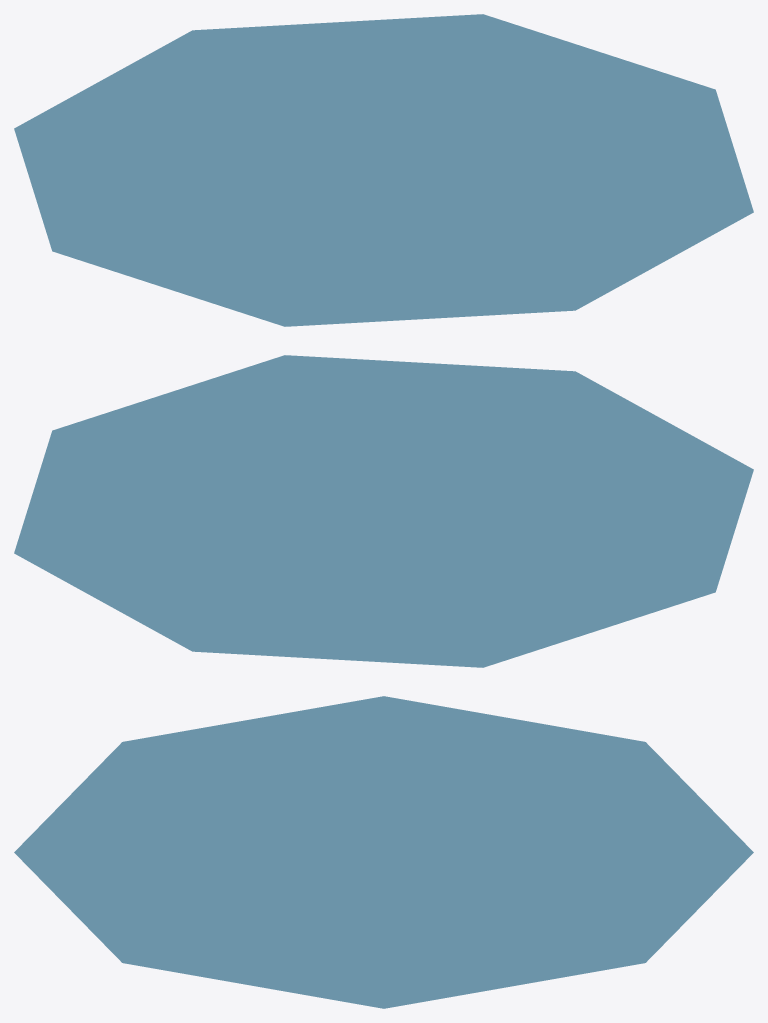
File: entity430282.gltf
The picture shows the model from 3 angles, top to bottom: view 1: azimuth 30°, elevation 25°; view 2: azimuth 150°, elevation 25°; view 3: azimuth 270°, elevation 25°; orthographic projection. The views are drawn at different scales.
Parts seen in each view (by area): view 1: node_pCylinder351; view 2: node_pCylinder351; view 3: node_pCylinder351.
Part boxes in pixels (x1,y1,x2,y2): node_pCylinder351: (14, 14, 753, 326); node_pCylinder351: (14, 355, 753, 667); node_pCylinder351: (14, 696, 753, 1008).
Size of the model in its own units: 4 by 0 by 4.
